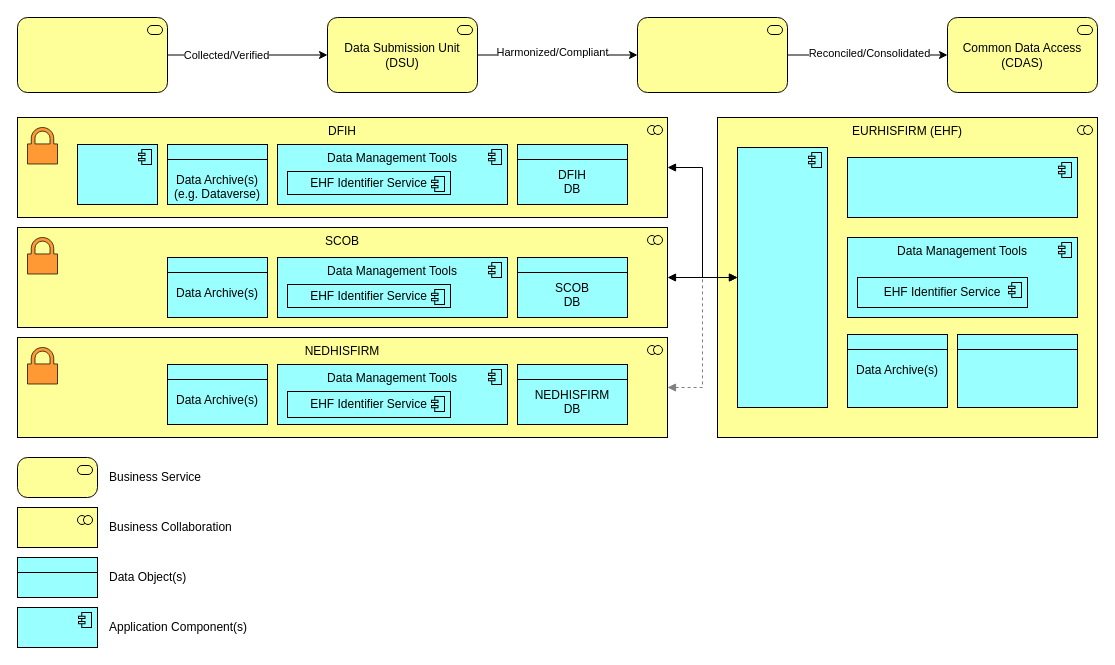
The diagram is 1115 pixels wide and 665 high, and some of its shapes have lost their labels. The shapes that lost their labels are listed below. From the top down, each one's centre as x and y in pixels, then its label:
At point (92, 54): "Data Collection Unit (DCU)".
At point (712, 54): "Network Integration Center (NIC)".
At point (117, 174): "OCR".
At point (962, 187): "Data Access Tools (e.g. Sparql)".
At point (782, 277): "ETL Processes".
At point (1017, 371): "EHF DB (e.g. Wikibase, Blazegraph)".
